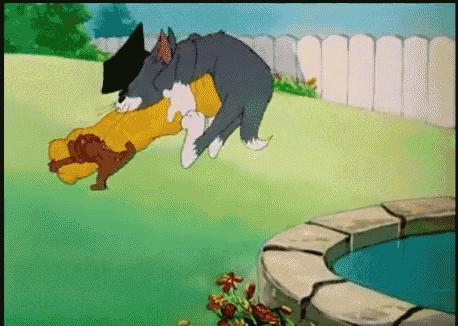jerry: (47, 133, 139, 193)
